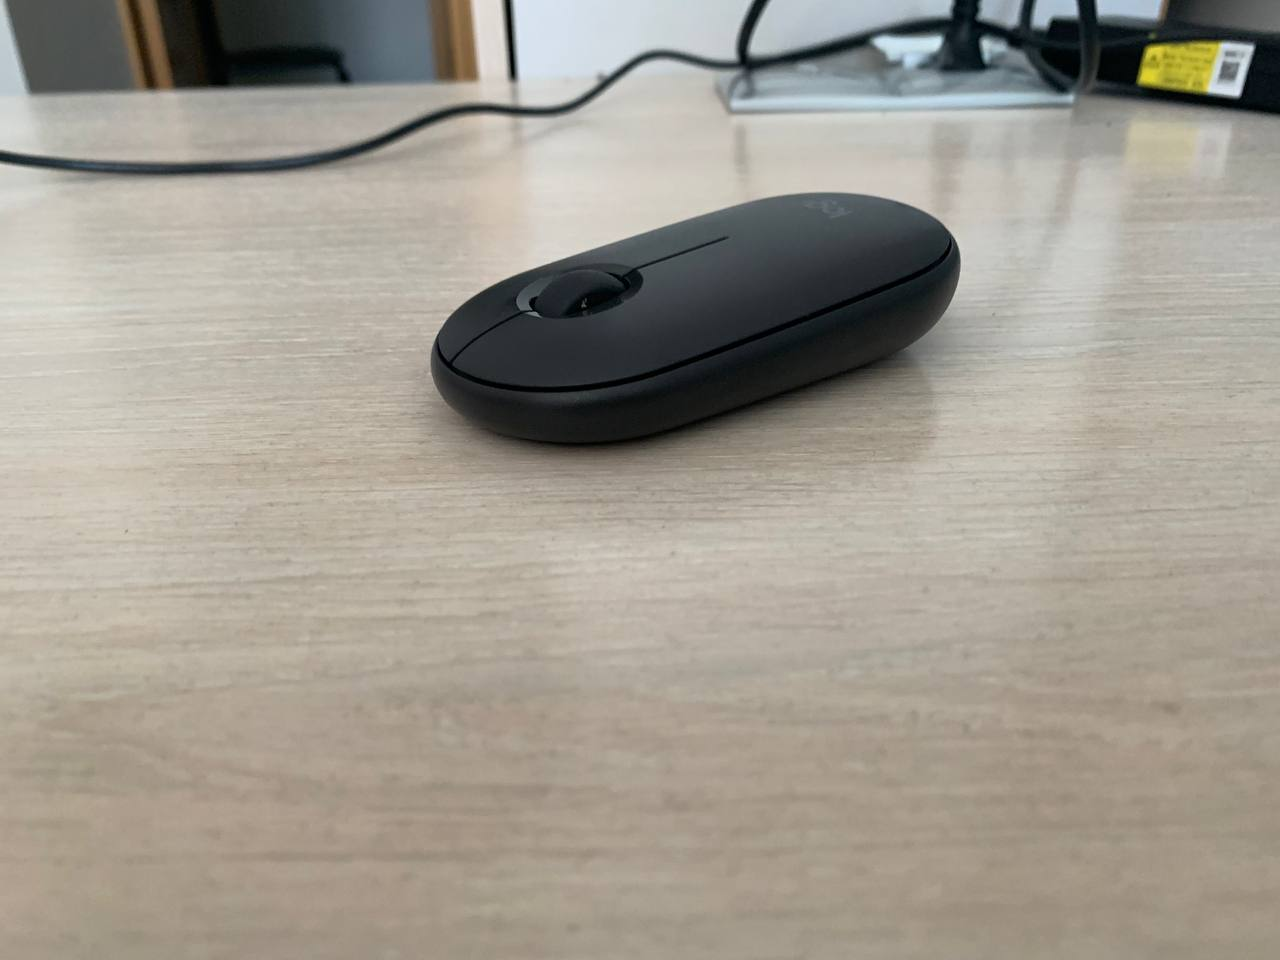mouse: (432, 193, 959, 443)
